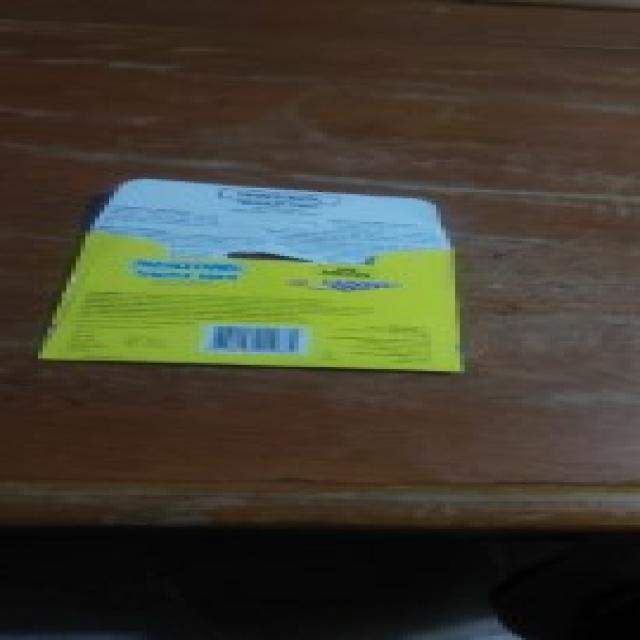Cacat: (33, 178, 472, 374)
